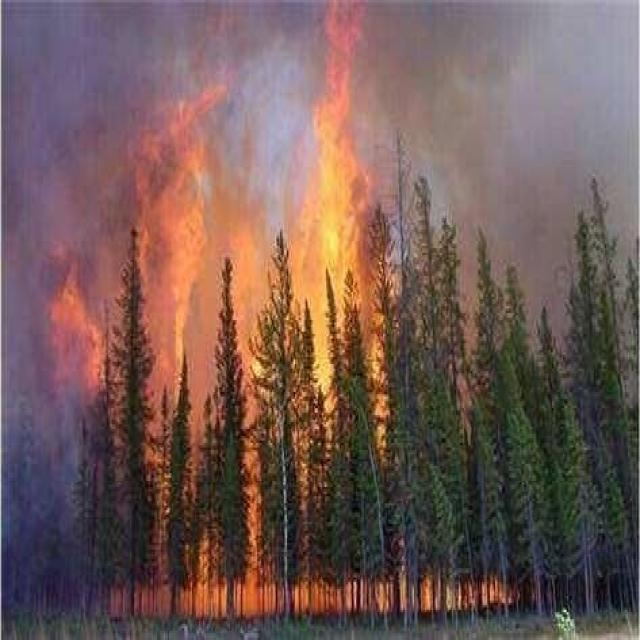fire: (33, 6, 513, 615)
